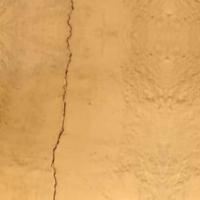crack: (40, 0, 82, 199)
